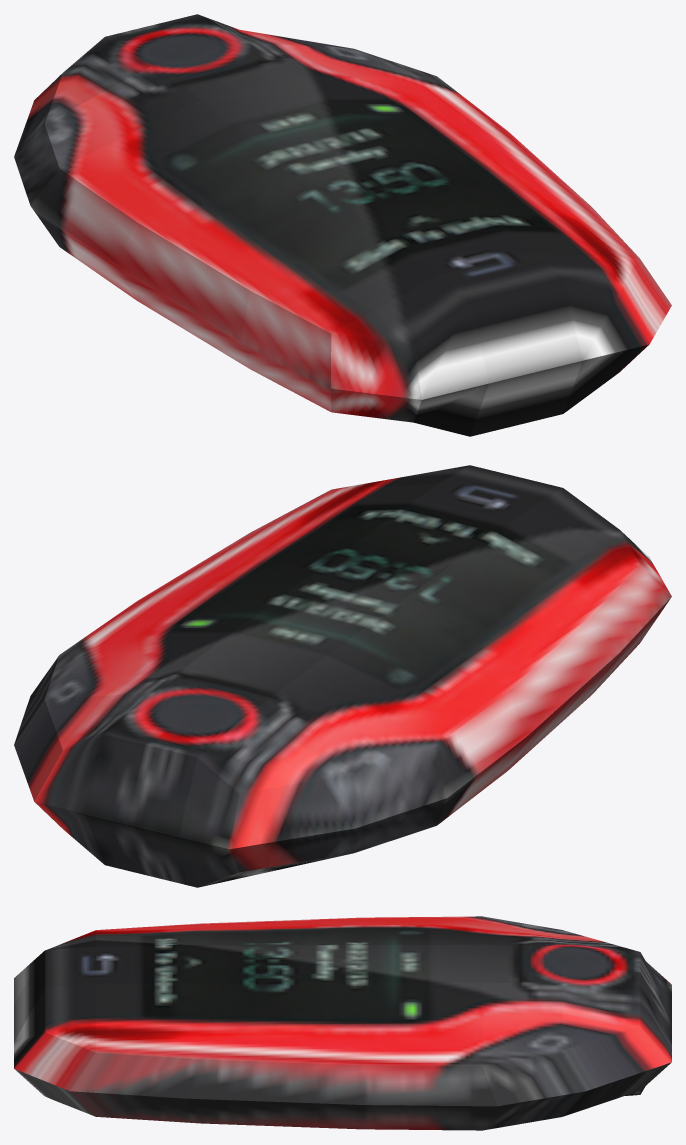
File: key_fob2.fbx
3 views of the same model, one above another, from view 1: azimuth 30°, elevation 25°; view 2: azimuth 150°, elevation 25°; view 3: azimuth 270°, elevation 25° (orthographic). The views are drawn at different scales.
Visible parts, largest first — view 1: key_fob2; view 2: key_fob2; view 3: key_fob2.
Part boxes in pixels (box(x1,y1,x2,y2)): key_fob2: box(14, 14, 671, 436); key_fob2: box(14, 465, 671, 887); key_fob2: box(14, 916, 671, 1130).
Size of the model in its own units: 11.65 by 3.91 by 19.54.
Materials: 1 (1 with a texture image).
